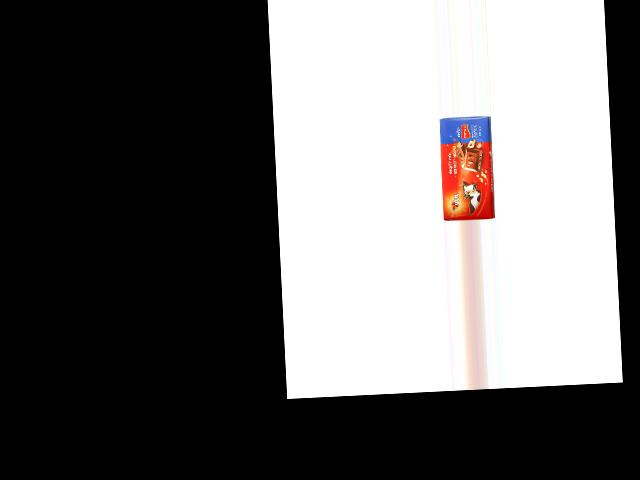chocolate: (439, 116, 495, 221)
